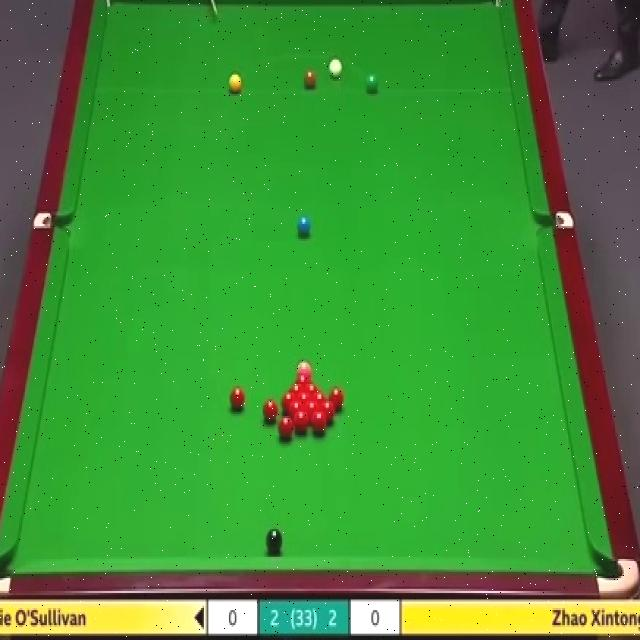black-ball: (264, 525, 283, 551)
blue-ball: (296, 217, 312, 234)
brown-ball: (304, 70, 316, 89)
green-ball: (364, 71, 380, 94)
pink-ball: (296, 364, 313, 380)
red-ball: (261, 397, 279, 421), (278, 415, 294, 442), (228, 386, 246, 409), (319, 400, 336, 424), (281, 392, 298, 414), (312, 410, 328, 433), (292, 410, 309, 431), (329, 389, 344, 410), (307, 381, 321, 402), (290, 383, 306, 397)
white-ball: (329, 58, 344, 76)
yellow-ball: (228, 73, 242, 94)
